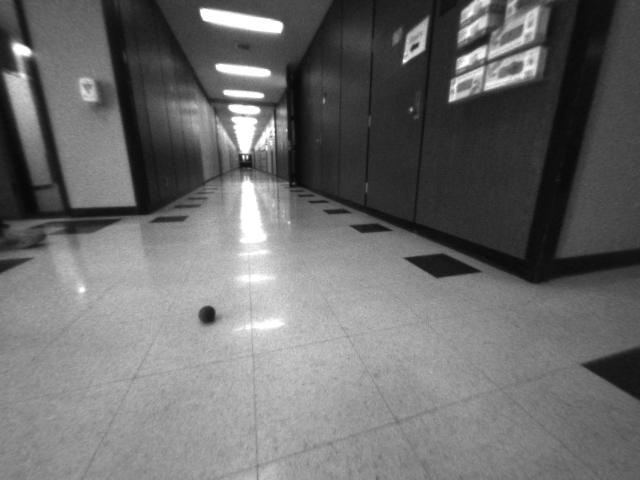dogtoy: (191, 297, 228, 334)
